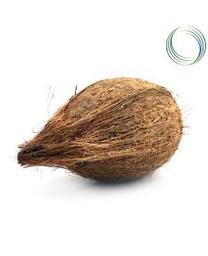coconut: (18, 76, 182, 183)
